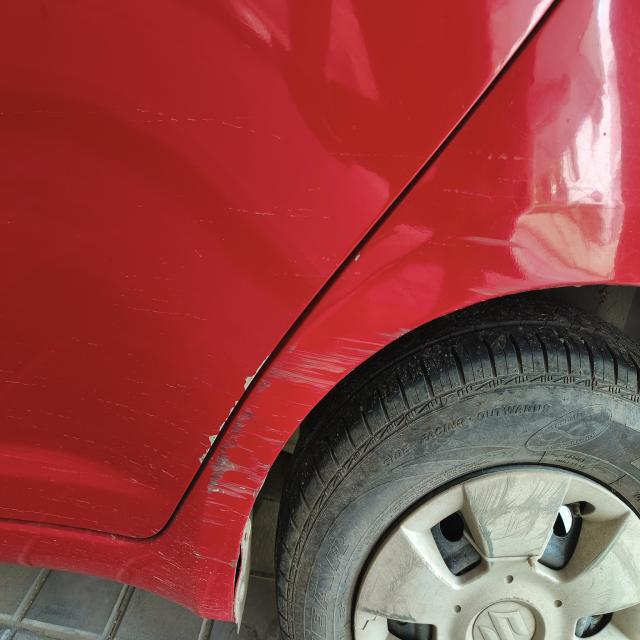scratch: (199, 317, 408, 560), (144, 109, 284, 144), (222, 203, 337, 223)
